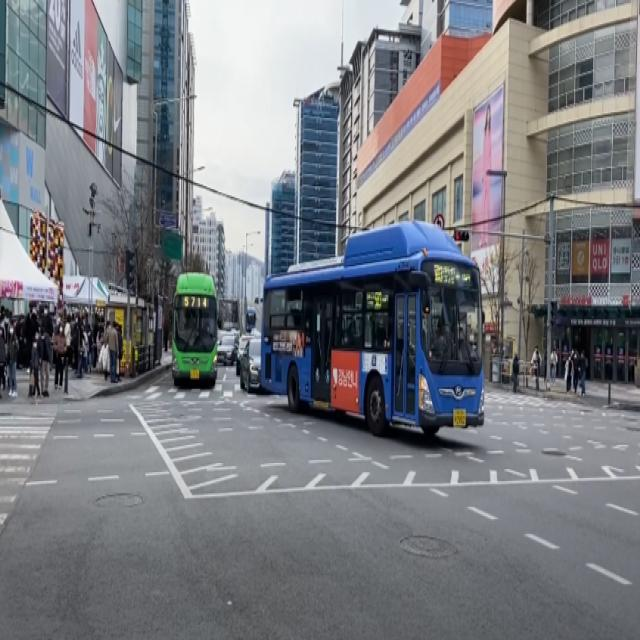bus-number: (183, 294, 208, 310), (434, 264, 443, 284)
